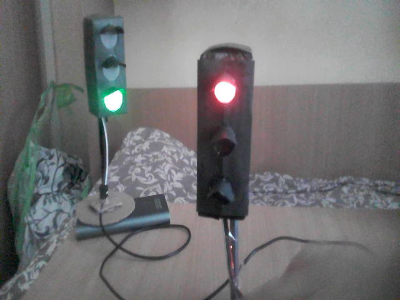trafficlight_green: (93, 19, 128, 114)
trafficlight_red: (197, 57, 252, 215)
